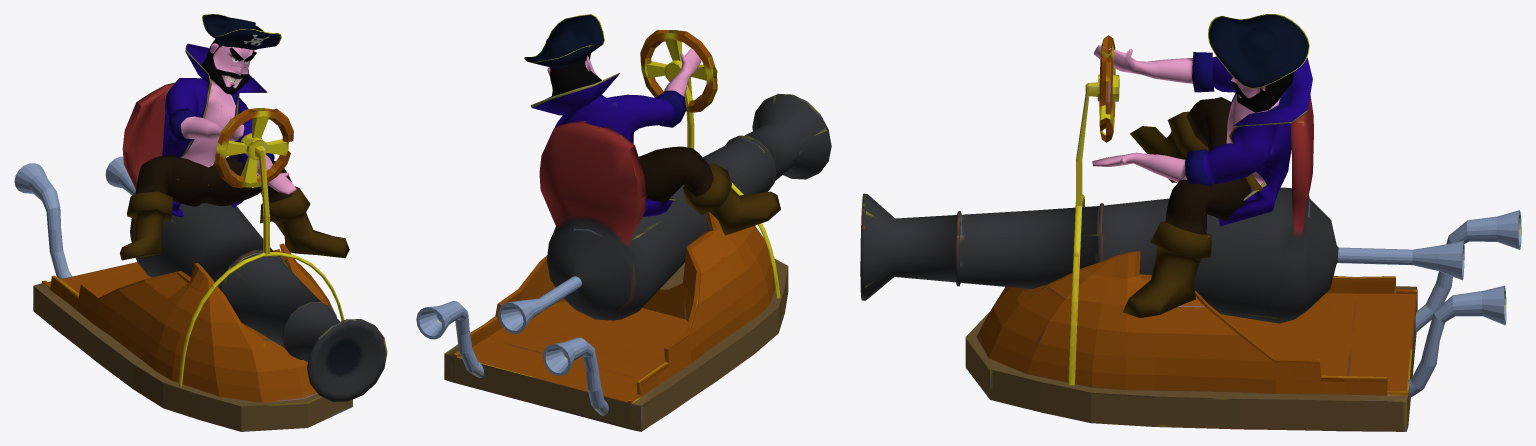
Rendered from pirataGiroDER_000425.obj.
3 views of the same model, side by side, from view 1: azimuth 30°, elevation 25°; view 2: azimuth 150°, elevation 25°; view 3: azimuth 270°, elevation 25° (orthographic). The views are drawn at different scales.
Parts seen in each view (by area): view 1: carro_pirata, Pirata_PirataH; view 2: carro_pirata, Pirata_PirataH; view 3: carro_pirata, Pirata_PirataH.
Boxes of the visible parts, <box> form: carro_pirata: <box>14,82,387,431</box>; Pirata_PirataH: <box>120,14,349,260</box>; carro_pirata: <box>416,30,831,431</box>; Pirata_PirataH: <box>524,14,780,235</box>; carro_pirata: <box>860,35,1521,431</box>; Pirata_PirataH: <box>1092,14,1312,317</box>.
Bounding box in the file's own units: 5.68 × 7.56 × 12.1.
